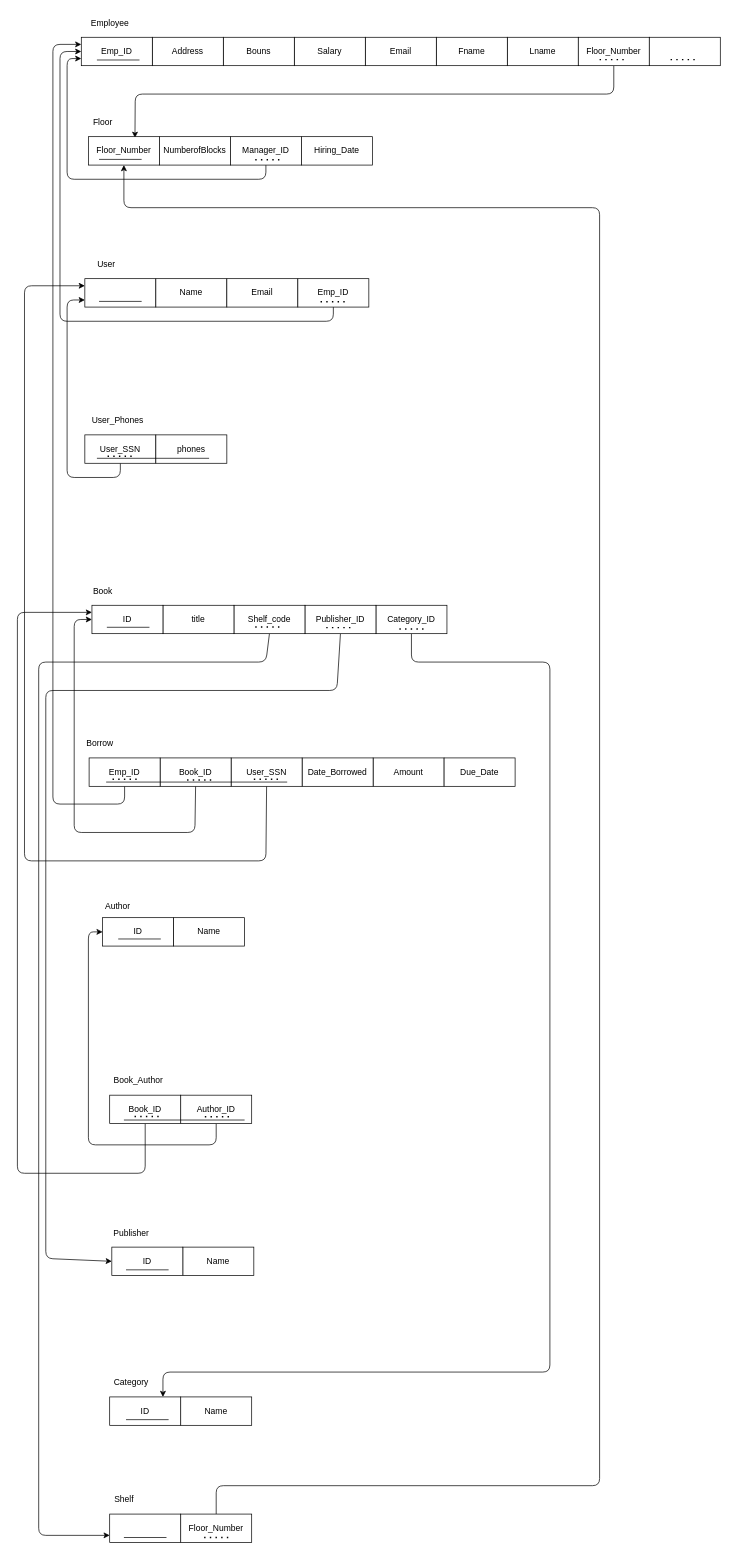
This 733x1555 diagram has some shape labels left out. Each missing label, with the box of its shape:
Code: (109, 1513, 181, 1542)
SSN: (84, 278, 156, 307)
Supervisor_ID: (649, 37, 720, 66)
